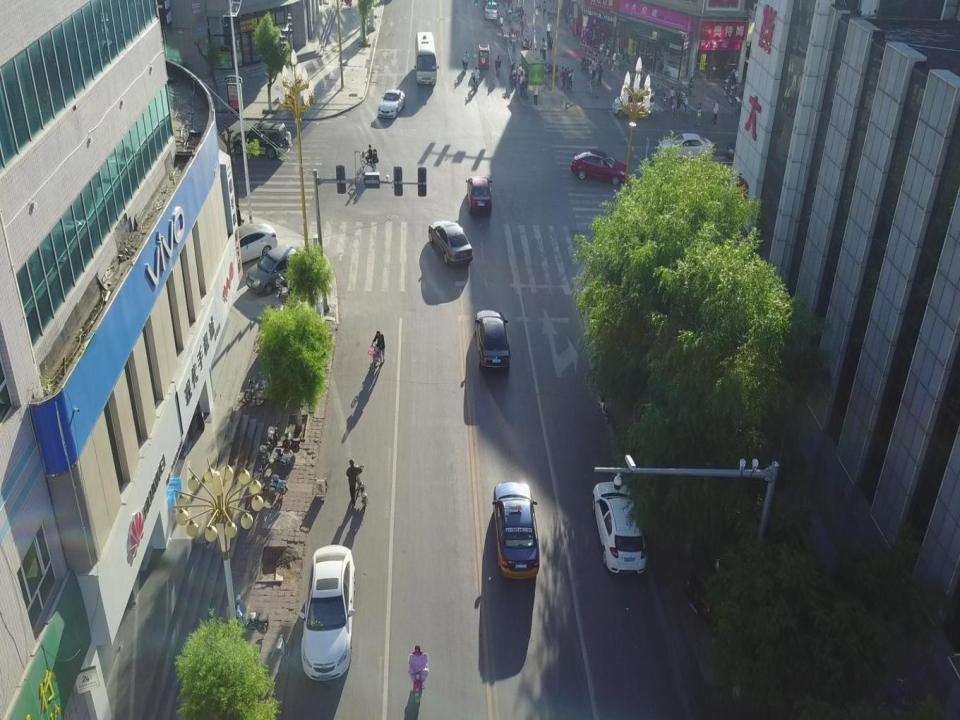bus: (414, 32, 439, 87)
car: (687, 550, 803, 628), (298, 547, 354, 680), (591, 481, 647, 574), (493, 481, 540, 580), (246, 244, 307, 294), (218, 223, 278, 269), (474, 308, 511, 371), (231, 122, 291, 159), (571, 150, 630, 186), (430, 220, 474, 266), (660, 133, 714, 160), (466, 175, 492, 215), (726, 137, 766, 159), (378, 89, 406, 118), (484, 2, 498, 20)
van: (613, 89, 654, 118)
